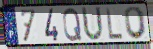4: (43, 7, 59, 43)
7: (19, 9, 37, 44)
L: (105, 7, 124, 41)
O: (123, 6, 148, 41)
Q: (62, 7, 83, 43)
U: (80, 6, 105, 43)
